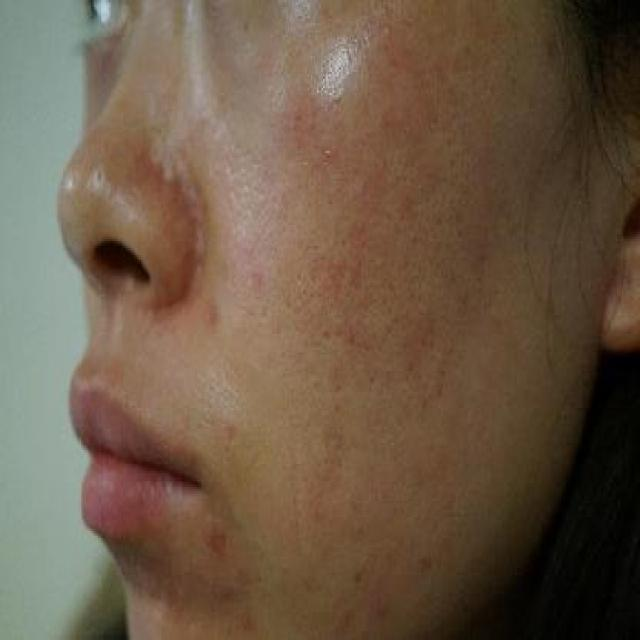dark spot: (196, 510, 242, 557), (200, 295, 231, 336), (230, 600, 261, 640), (414, 547, 441, 582)
